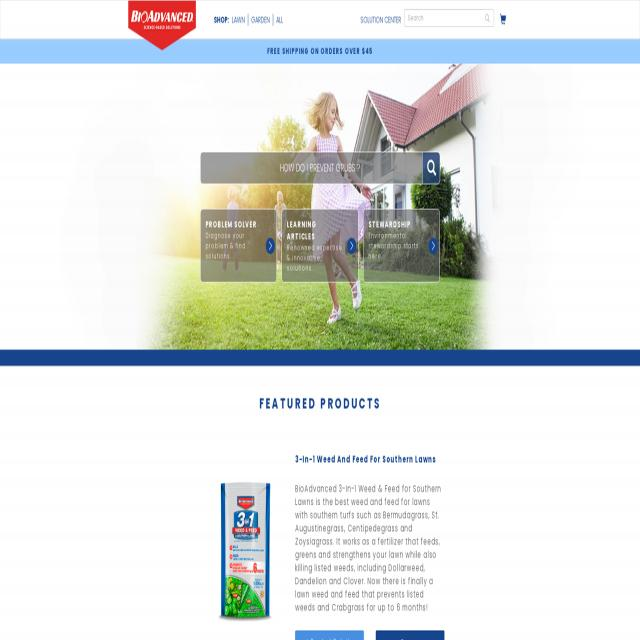button: (217, 476, 277, 628), (282, 210, 358, 282), (201, 210, 276, 282), (364, 210, 439, 282), (128, 1, 196, 50), (375, 629, 444, 640), (294, 630, 364, 640), (422, 152, 440, 184), (496, 8, 509, 32), (482, 10, 494, 26)
field: (200, 152, 422, 184), (404, 9, 494, 27)
